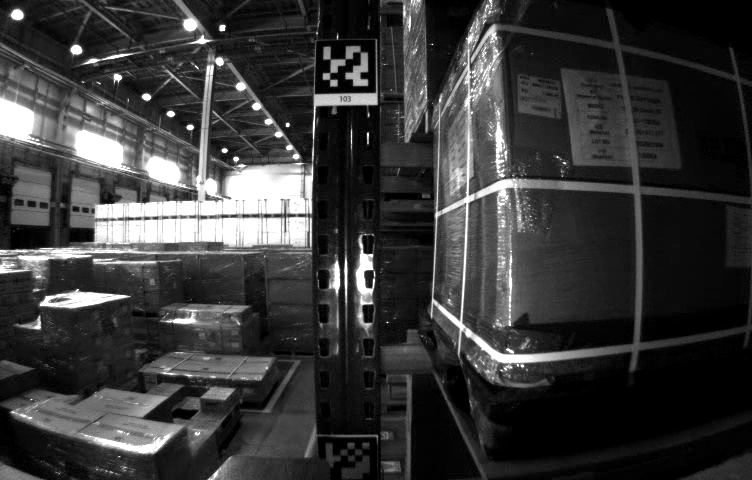True Barcode: (517, 73, 561, 121)
